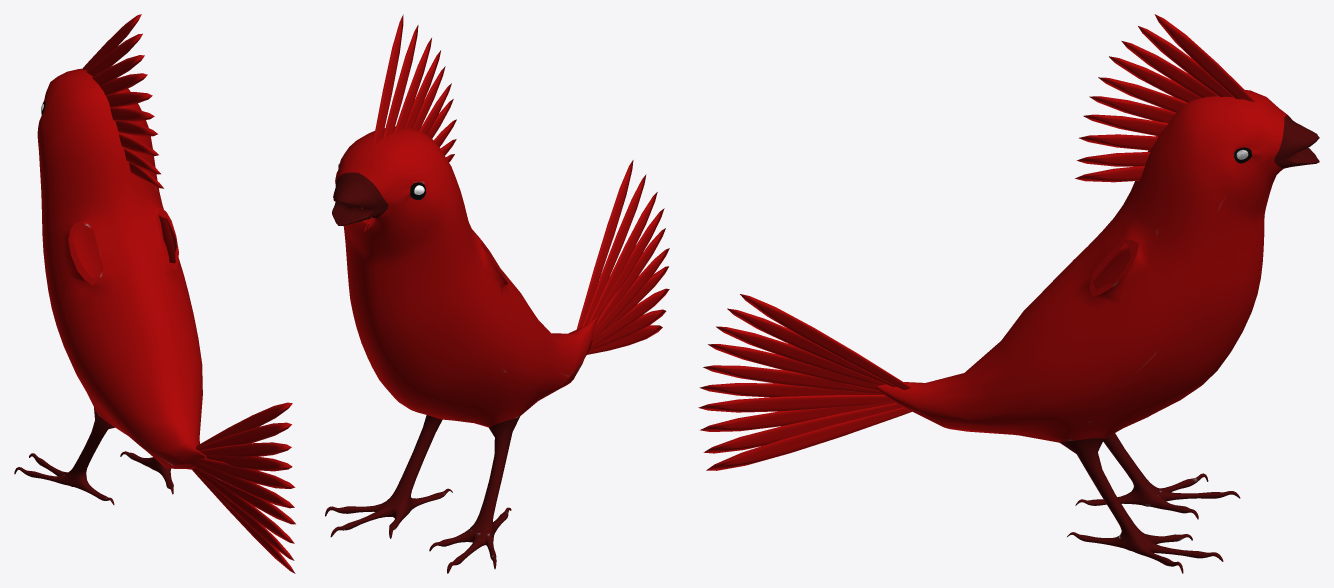
The model's file is CuerpoPajaroProyectorPicapiedras.obj.
3 views of the same model, side by side, from view 1: azimuth 30°, elevation 25°; view 2: azimuth 150°, elevation 25°; view 3: azimuth 270°, elevation 25° (orthographic). The views are drawn at different scales.
Parts seen in each view (by area): view 1: polySurface45; view 2: polySurface45; view 3: polySurface45.
Part boxes in pixels (x1=…): polySurface45: x1=14, y1=14, x2=295, y2=573; polySurface45: x1=325, y1=14, x2=669, y2=573; polySurface45: x1=698, y1=14, x2=1319, y2=573.
Bounding box in the file's own units: 6.25 × 16.7 × 17.77.
Materials: 1 (1 with a texture image).
